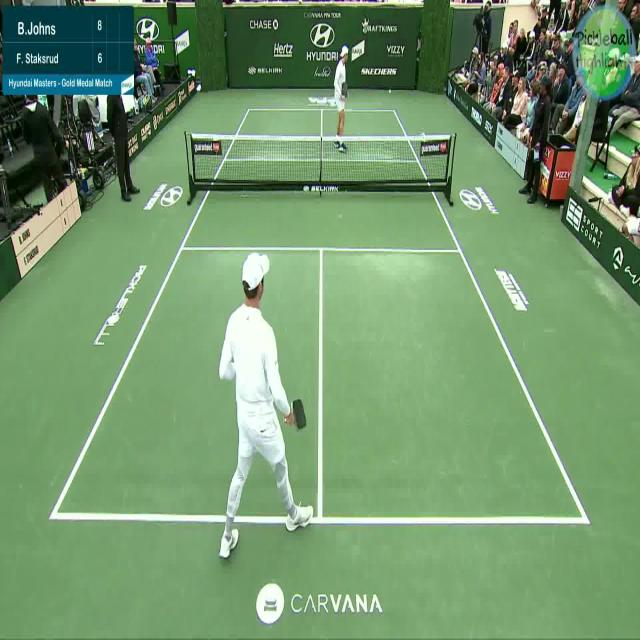ball: (388, 88, 392, 93)
